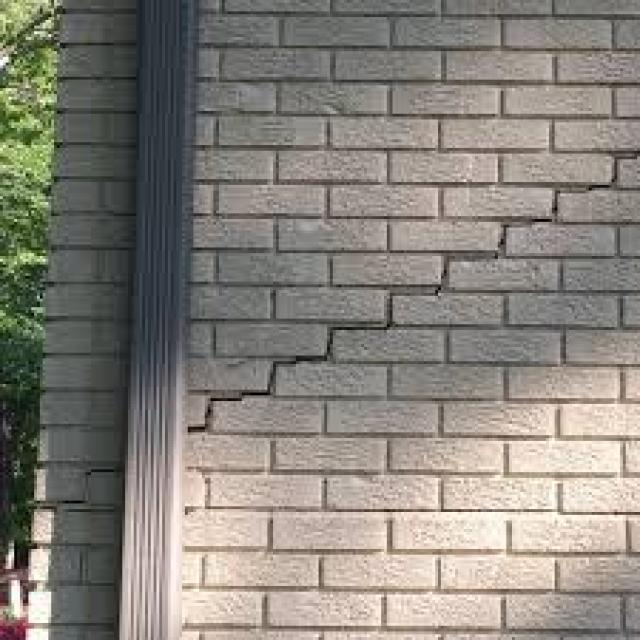Crack: (185, 151, 637, 432), (34, 461, 122, 506)
